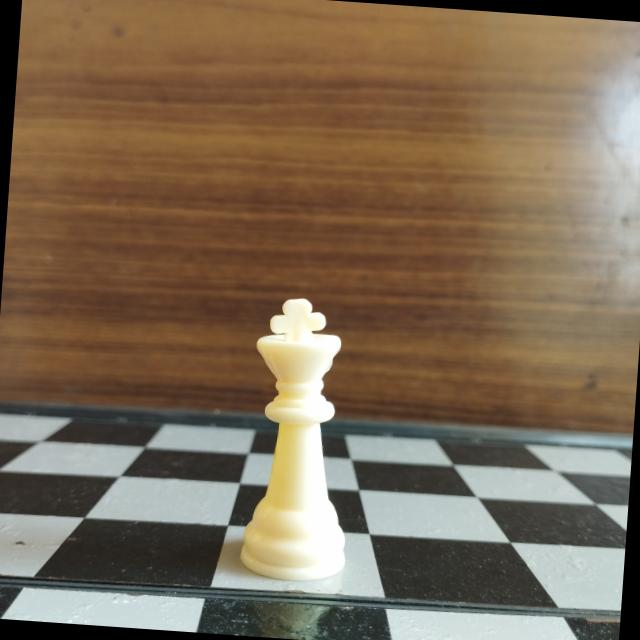White King: (230, 287, 373, 587)
